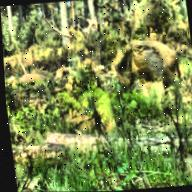boar: (113, 39, 184, 106)
